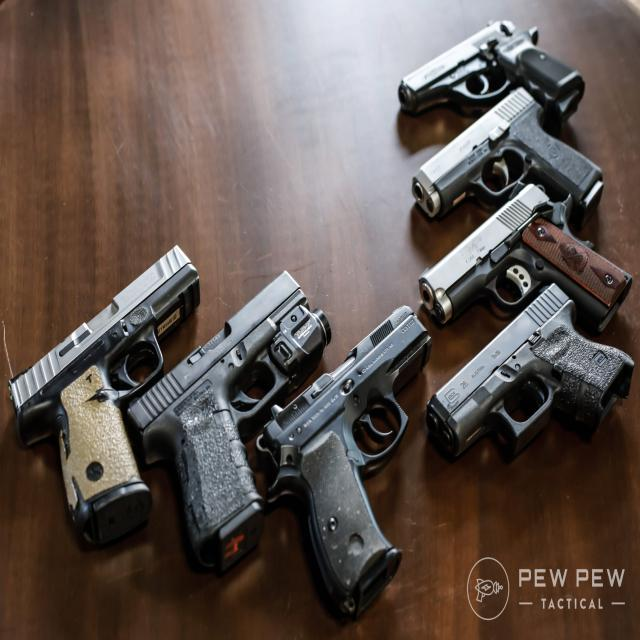HandGun: (127, 272, 332, 577), (13, 248, 198, 551), (259, 307, 431, 618), (426, 283, 635, 466), (418, 184, 632, 333), (412, 91, 604, 223), (397, 20, 586, 126)
